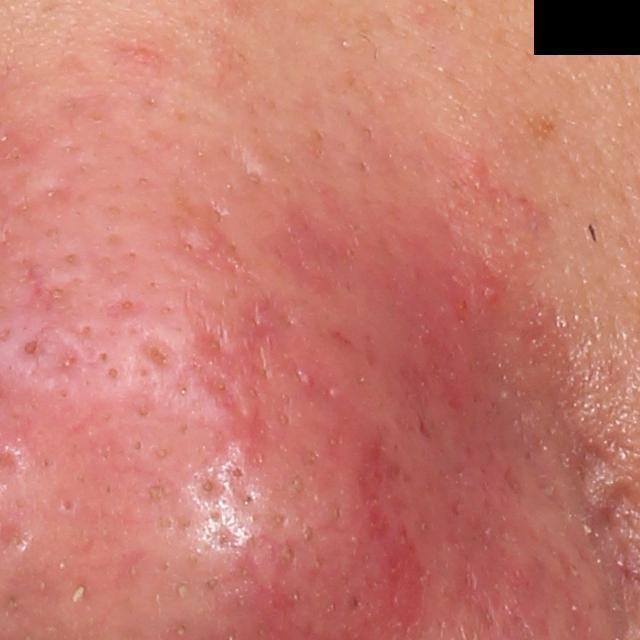comedo: (60, 497, 75, 515)
melasma: (523, 112, 562, 146)
